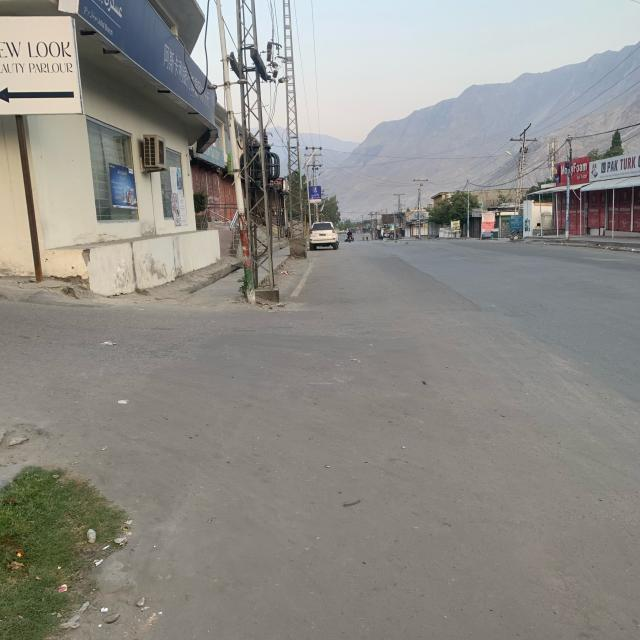Left-Turn: (3, 309, 317, 545)
straight: (358, 234, 542, 536)
